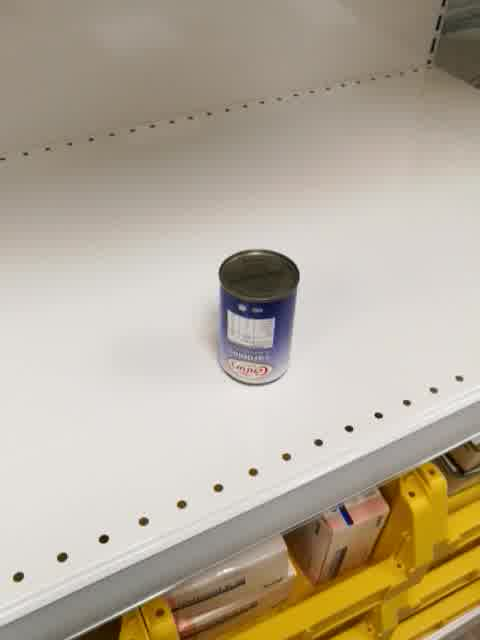sardine: (217, 249, 301, 388)
